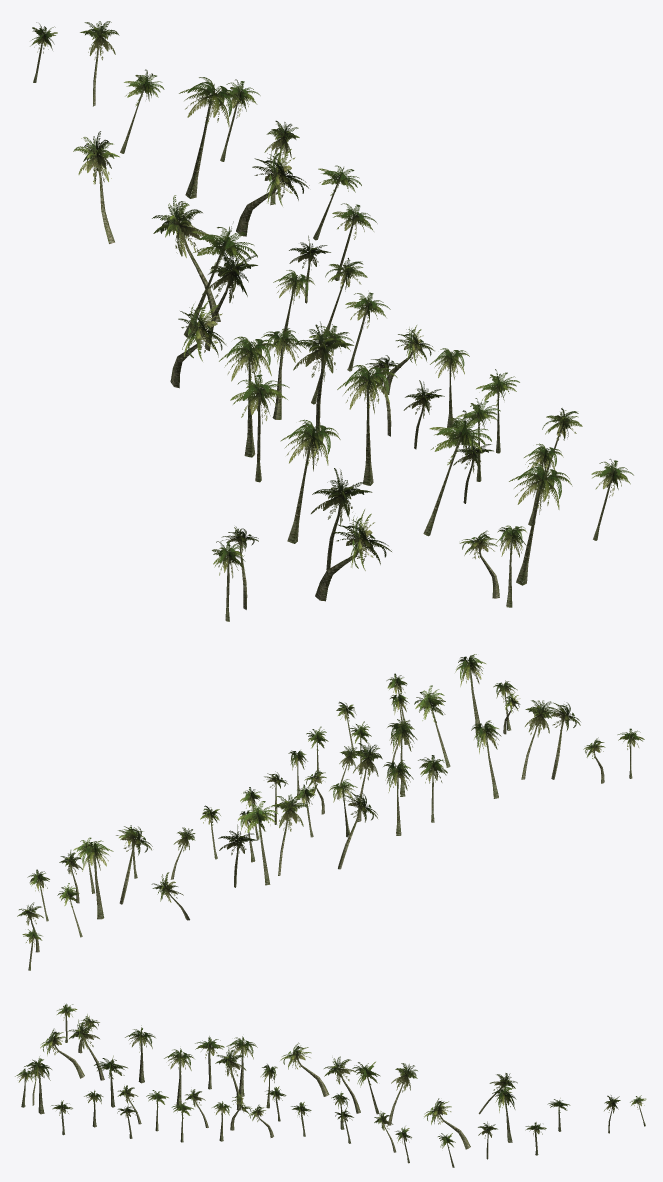
File: guy_area_01_vegetation2r.fbx
3 renders of one model, top to bottom at view 1: azimuth 30°, elevation 25°; view 2: azimuth 150°, elevation 25°; view 3: azimuth 270°, elevation 25°, orthographic. The views are drawn at different scales.
Visible parts, largest first — view 1: guy_area_01_vegetation2R_pivot_guy_vegetation_alpha1L_LOD1; view 2: guy_area_01_vegetation2R_pivot_guy_vegetation_alpha1L_LOD1; view 3: guy_area_01_vegetation2R_pivot_guy_vegetation_alpha1L_LOD1.
Boxes of the visible parts, x1,y1,x2,y2 form: guy_area_01_vegetation2R_pivot_guy_vegetation_alpha1L_LOD1: [30, 21, 633, 621]; guy_area_01_vegetation2R_pivot_guy_vegetation_alpha1L_LOD1: [17, 654, 644, 970]; guy_area_01_vegetation2R_pivot_guy_vegetation_alpha1L_LOD1: [15, 1003, 646, 1167].
Size of the model in its own units: 269 by 551 by 69.76.
